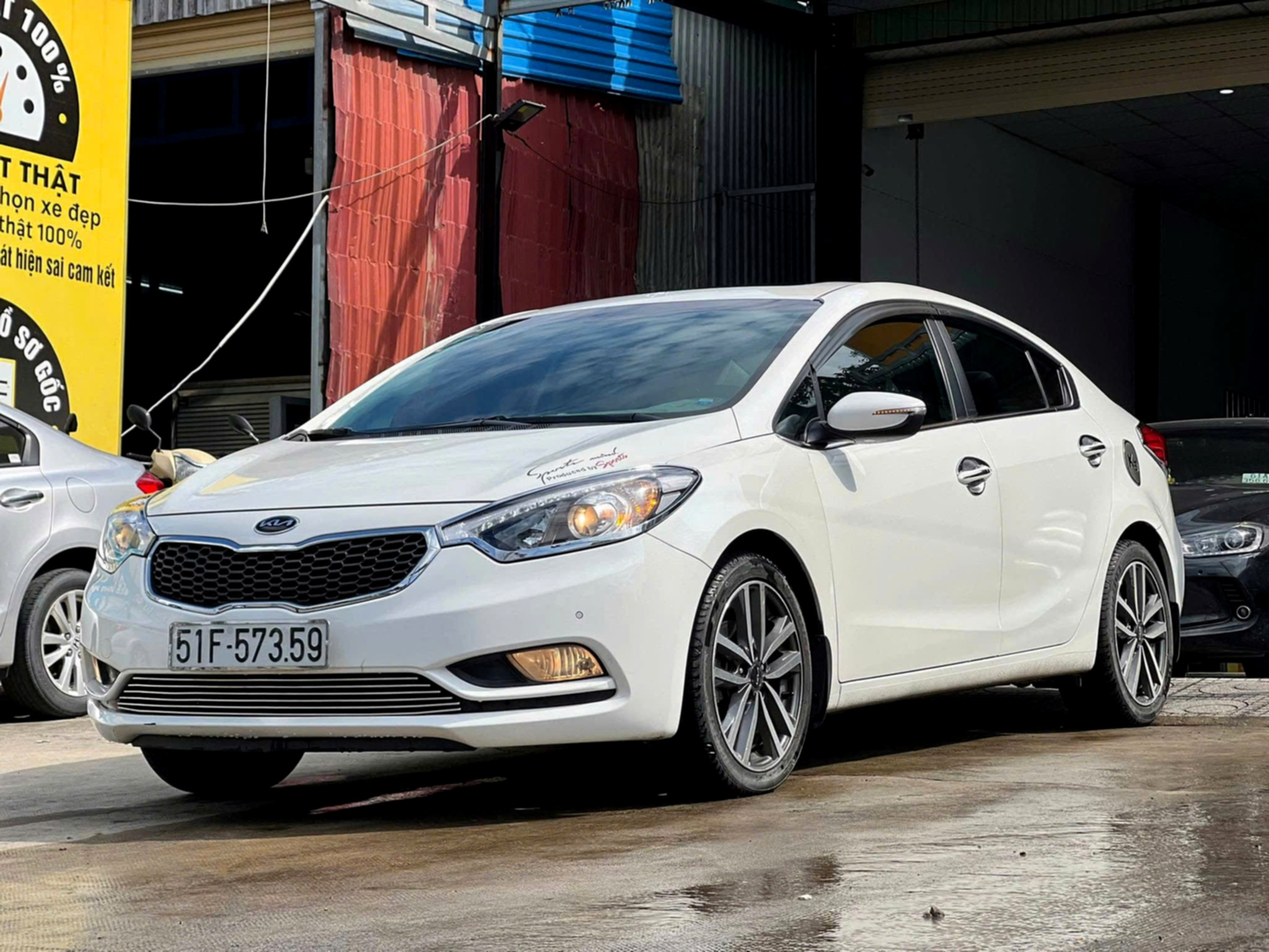Bien-so: (146, 625, 310, 685)
